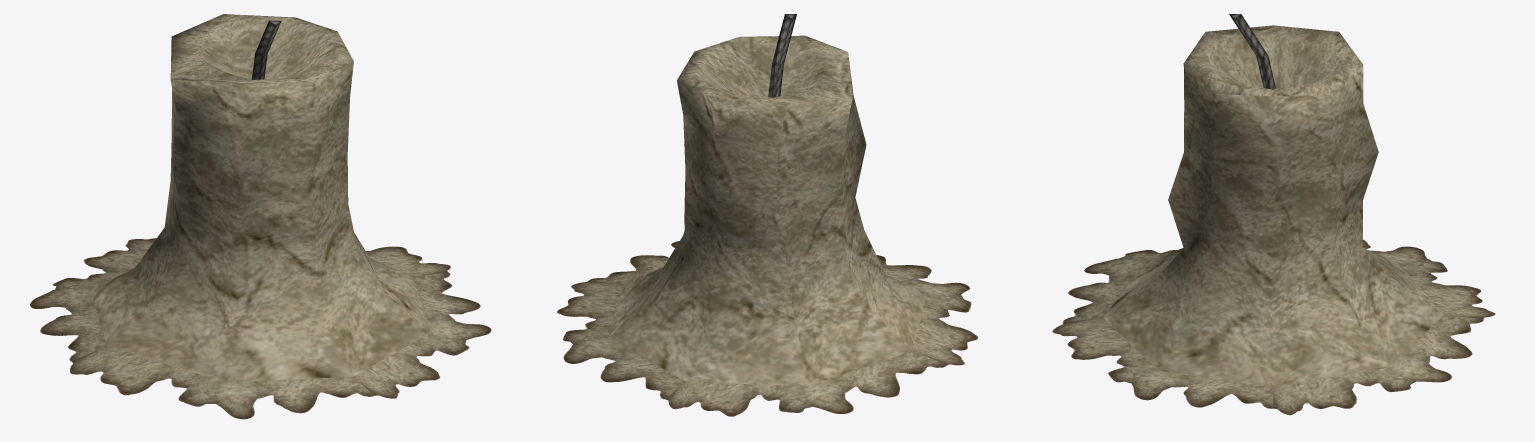
The model's file is candle_floor_small.dae.
3 views of the same model, side by side, from view 1: azimuth 30°, elevation 25°; view 2: azimuth 150°, elevation 25°; view 3: azimuth 270°, elevation 25° (orthographic). The views are drawn at different scales.
Parts seen in each view (by area): view 1: polySurface2; view 2: polySurface2; view 3: polySurface2.
Part boxes in pixels (x1,y1,x2,y2): polySurface2: [30, 14, 491, 419]; polySurface2: [557, 14, 978, 416]; polySurface2: [1052, 14, 1495, 415].
Size of the model in its own units: 0.2401 by 0.1633 by 0.2393.
